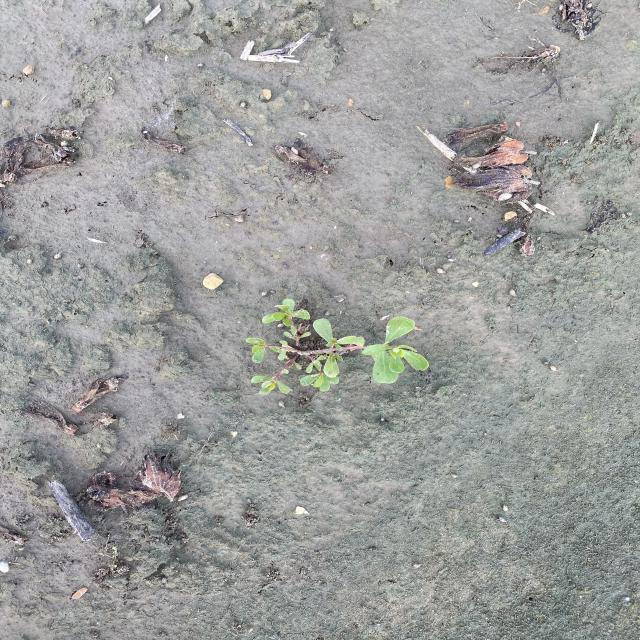Purslane: (243, 299, 433, 398)
